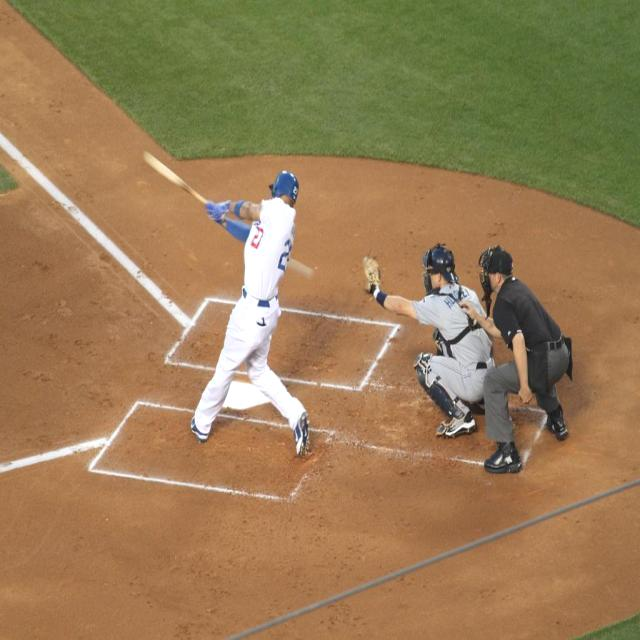ball: (290, 258, 316, 280)
bat: (141, 151, 207, 205)
